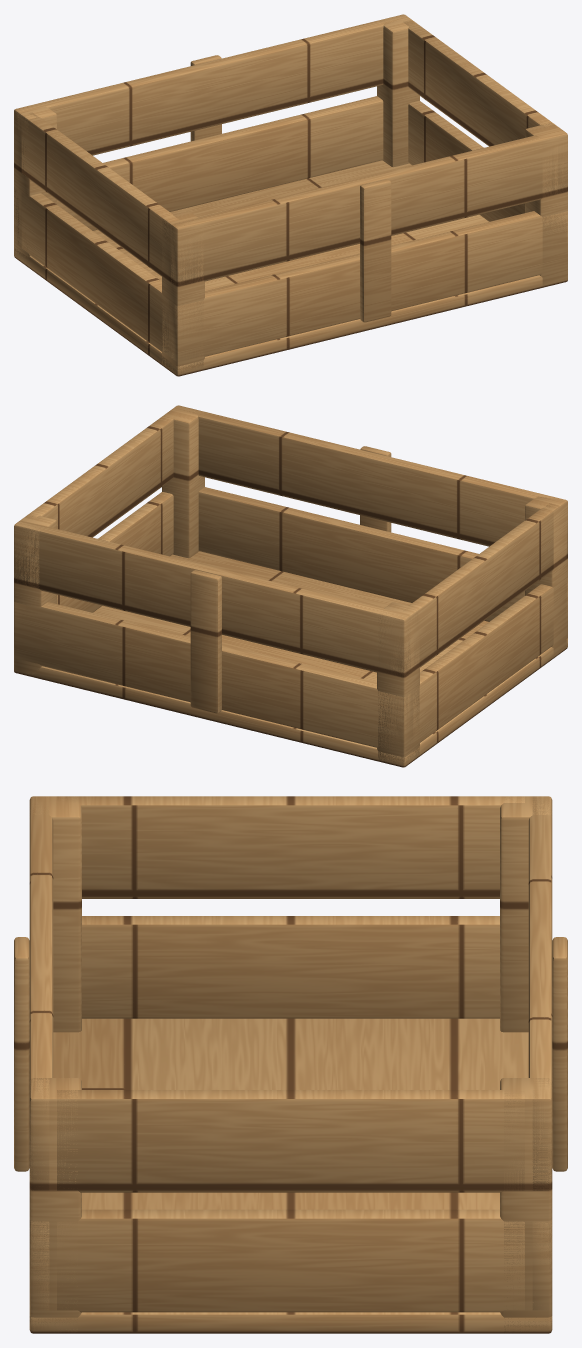
File: SM_Crate_Wood_Low.fbx
3 views of the same model, one above another, from view 1: azimuth 30°, elevation 25°; view 2: azimuth 150°, elevation 25°; view 3: azimuth 270°, elevation 25° (orthographic). The views are drawn at different scales.
Visible parts, largest first — view 1: SM_Crate_Wood_Low; view 2: SM_Crate_Wood_Low; view 3: SM_Crate_Wood_Low.
Part boxes in pixels (left/top/right/bottom): SM_Crate_Wood_Low: left=14, top=14, right=567, bottom=376; SM_Crate_Wood_Low: left=14, top=405, right=567, bottom=767; SM_Crate_Wood_Low: left=14, top=796, right=567, bottom=1333.
Size of what is drawn, in the model's own units: 0.55 by 0.2 by 0.424.
1 material, 1 textured.
